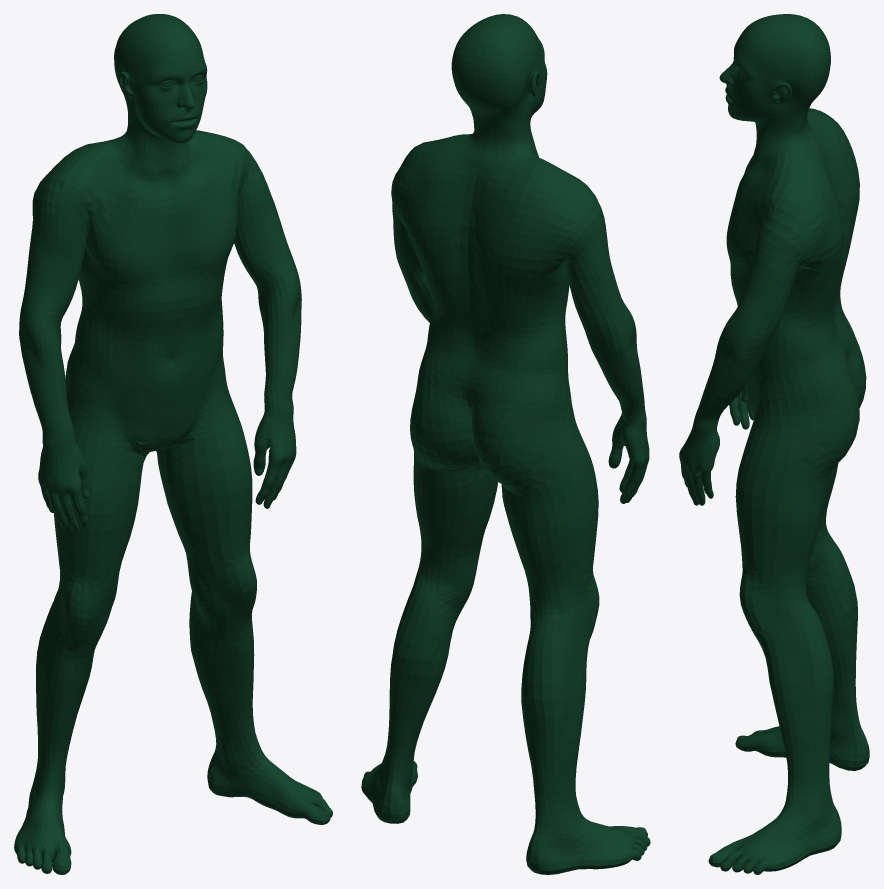
The model's file is pose_original_1.obj.
3 renders of one model, left to right at view 1: azimuth 30°, elevation 25°; view 2: azimuth 150°, elevation 25°; view 3: azimuth 270°, elevation 25°, orthographic. The views are drawn at different scales.
Bounding box in the file's own units: 1.13 × 3 × 0.6578.
